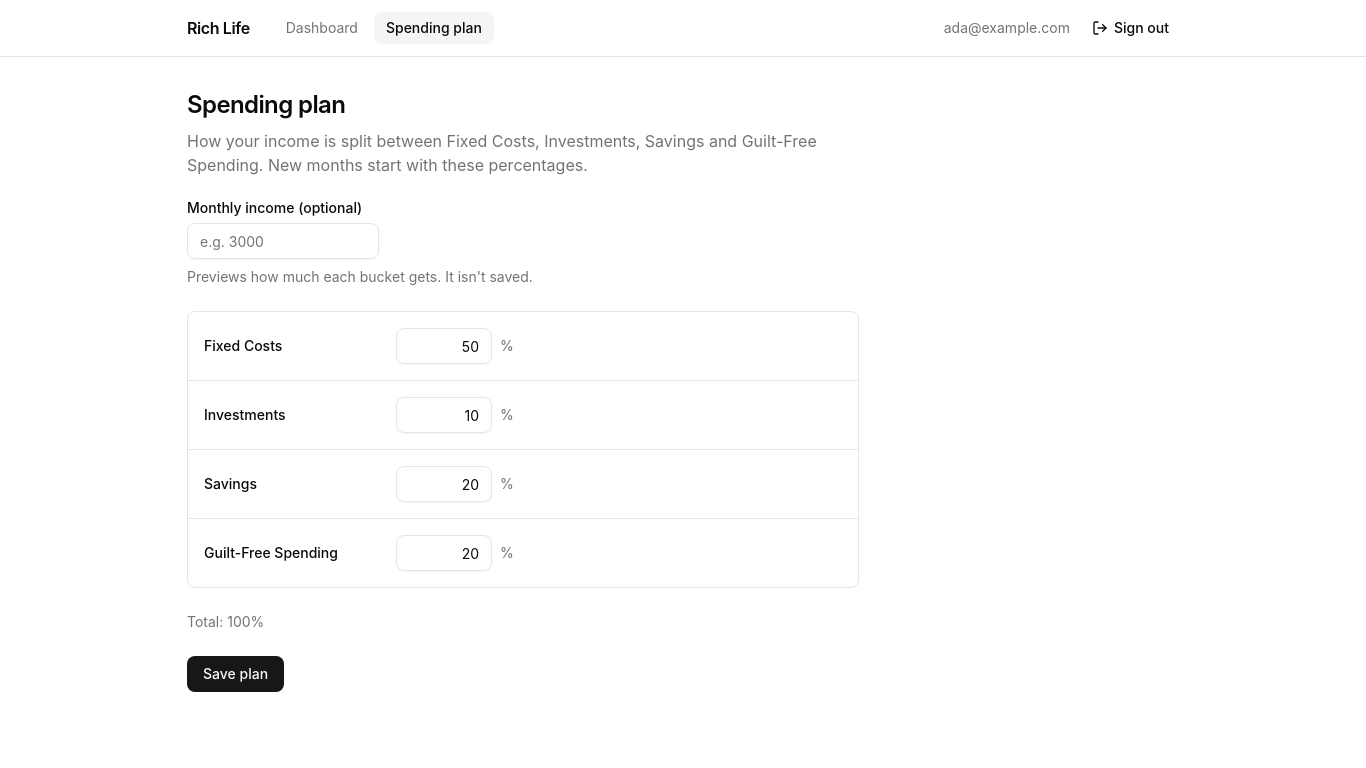
Scenario: PlanPage › shows the total error once when the percentages add up to 99.99%
The image size is (1366, 768).
Replace the text in the field labelled "Savings" with "19.99" at point(444, 484), box [396,466,492,502]
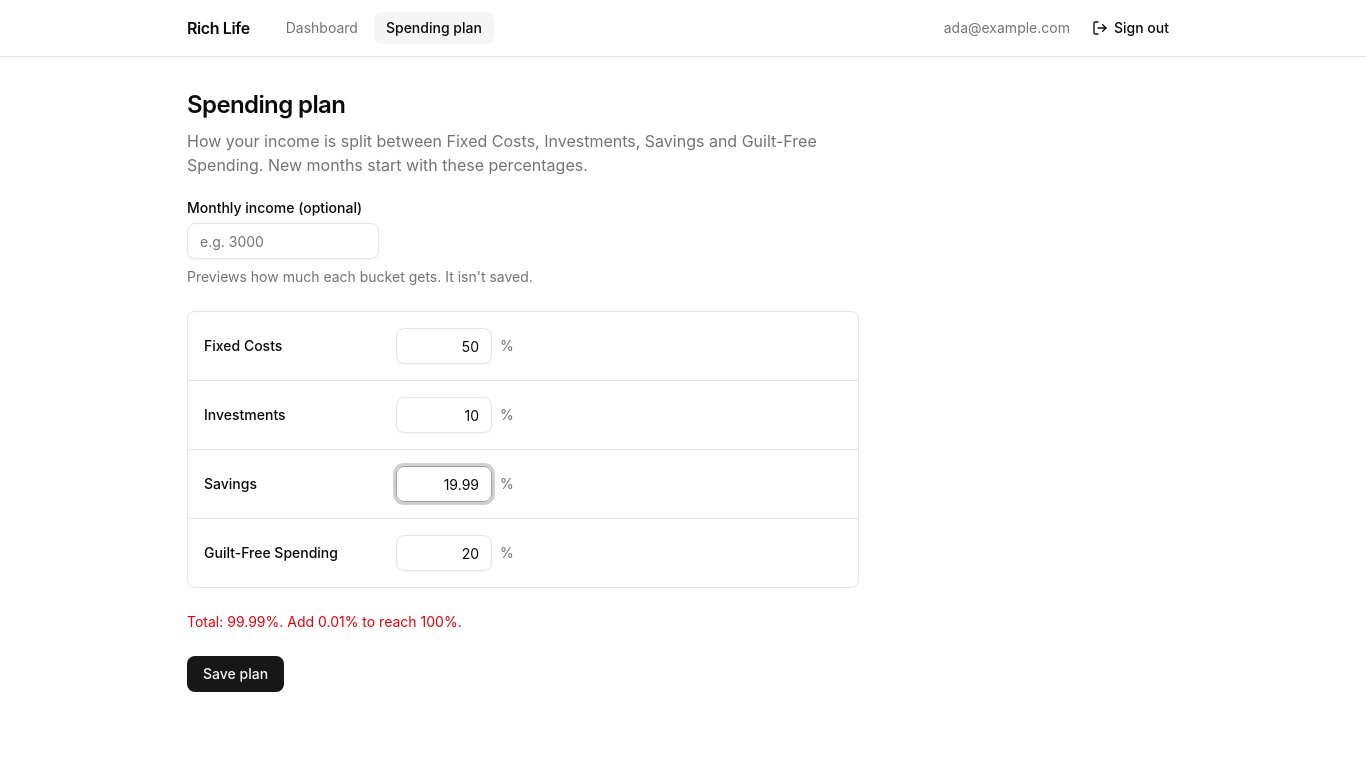
Click the button "Save plan" at point(236, 674), box [187,656,284,692]
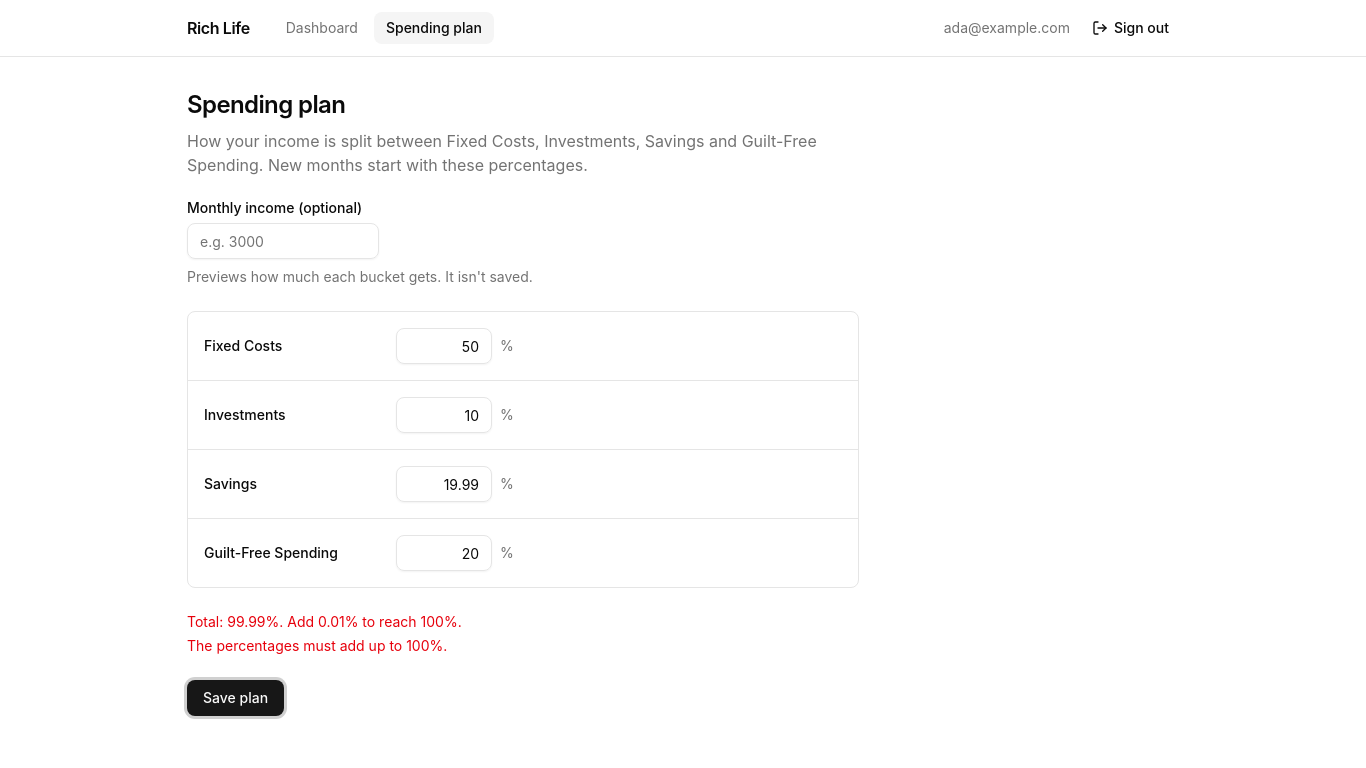
Expected: the text "The percentages must add up to 100%." is shown once, [187,637,447,654]
